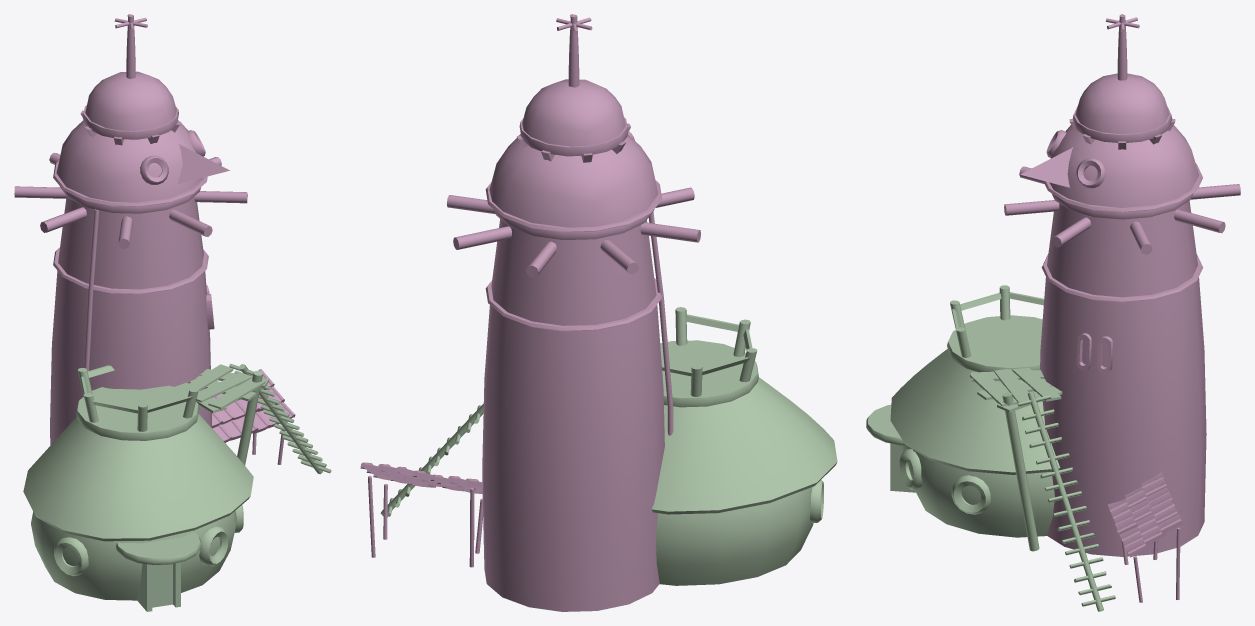
The model's file is House2.fbx.
3 views of the same model, side by side, from view 1: azimuth 30°, elevation 25°; view 2: azimuth 150°, elevation 25°; view 3: azimuth 270°, elevation 25° (orthographic). The views are drawn at different scales.
Parts seen in each view (by area): view 1: Box108, Support_Toit020; view 2: Box108, Support_Toit020; view 3: Box108, Support_Toit020.
Boxes of the visible parts, x1,y1,x2,y2 form: Box108: [14, 14, 295, 464]; Support_Toit020: [23, 363, 331, 611]; Box108: [360, 14, 700, 611]; Support_Toit020: [380, 307, 837, 585]; Box108: [1004, 14, 1240, 602]; Support_Toit020: [866, 285, 1115, 611].
Bounding box in the file's own units: 11.85 × 11.11 × 16.63.
